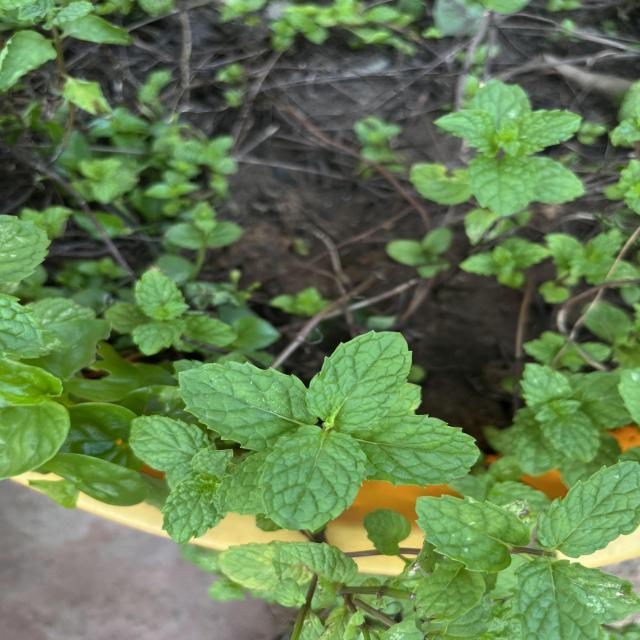Mentha spicata: (175, 359, 308, 450), (258, 424, 368, 534), (304, 328, 414, 431), (535, 458, 640, 559), (353, 414, 483, 489), (414, 493, 532, 575)
